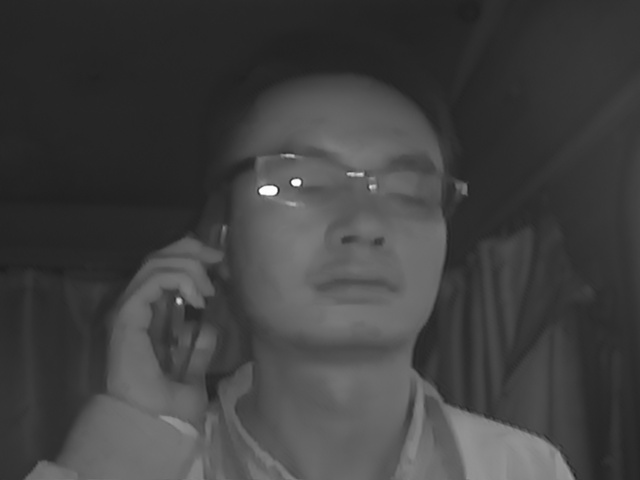hand: (101, 234, 227, 428)
